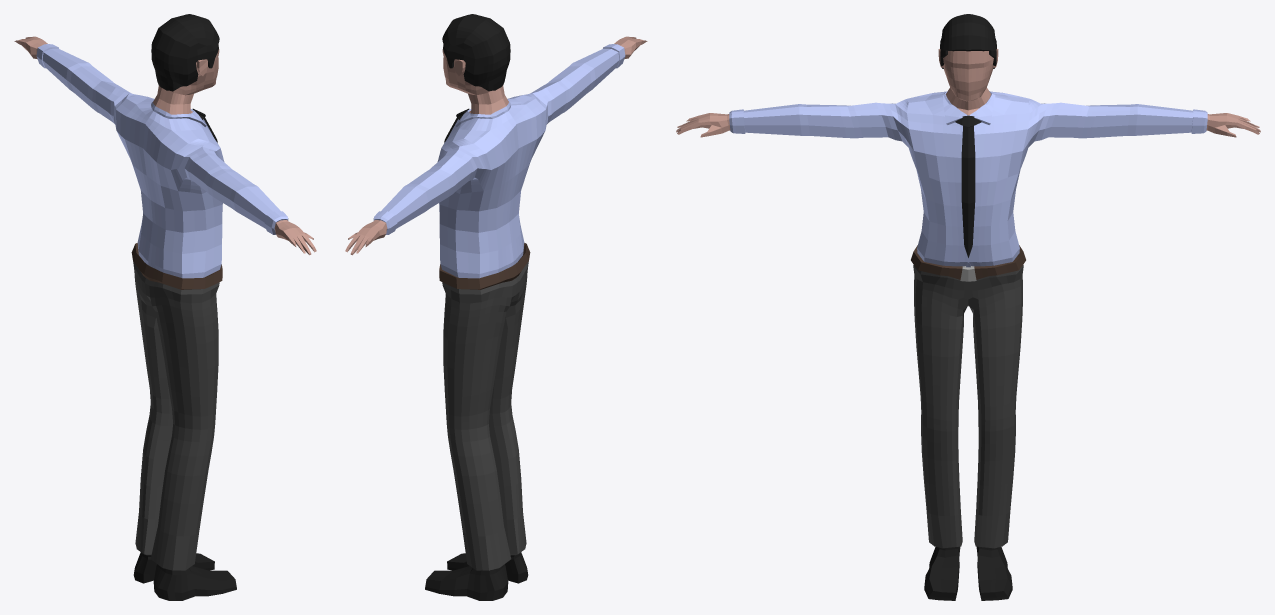
Rendered from EvilcorpWorker.fbx.
3 views of the same model, side by side, from view 1: azimuth 30°, elevation 25°; view 2: azimuth 150°, elevation 25°; view 3: azimuth 270°, elevation 25° (orthographic).
Parts seen in each view (by area): view 1: Cube; view 2: Cube; view 3: Cube.
Boxes of the visible parts, left/top/right/bottom form: Cube: left=14, top=14, right=316, bottom=600; Cube: left=345, top=14, right=647, bottom=600; Cube: left=676, top=14, right=1260, bottom=600.
Size of the model in its own units: 42.03 by 280 by 262.
